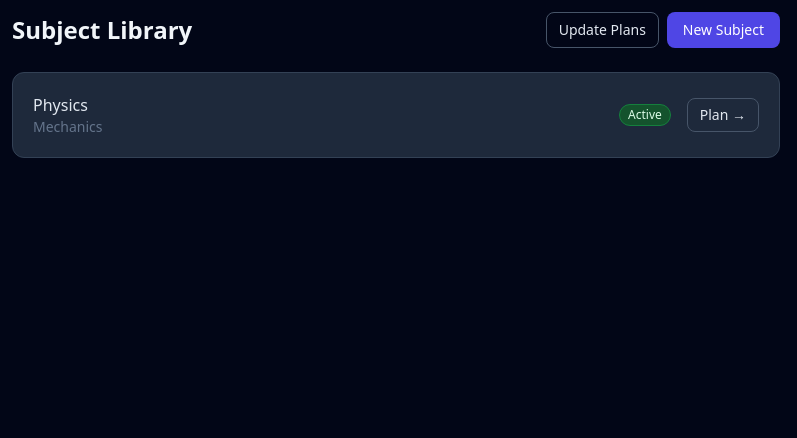
it: SubjectLibrary › shows create subject form
Expected: the text "Physics" is shown, [33, 94, 88, 116]
Step 1. Click the button "New Subject" → (723, 30), box [667, 12, 780, 48]
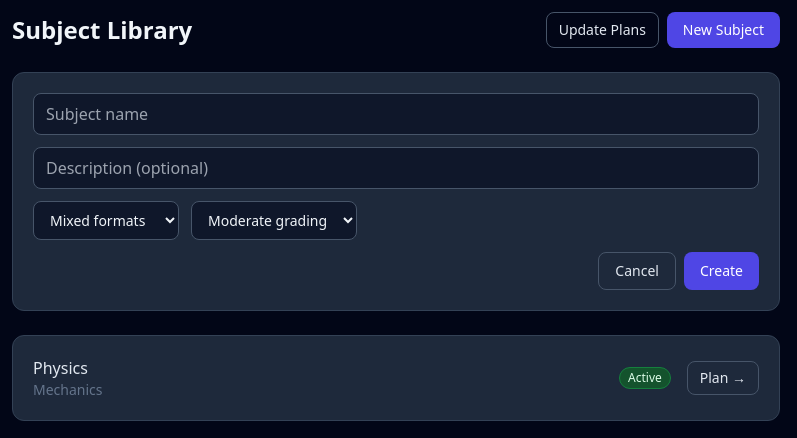
Now the field with placeholder "Subject name" is shown, box [33, 93, 759, 135]
